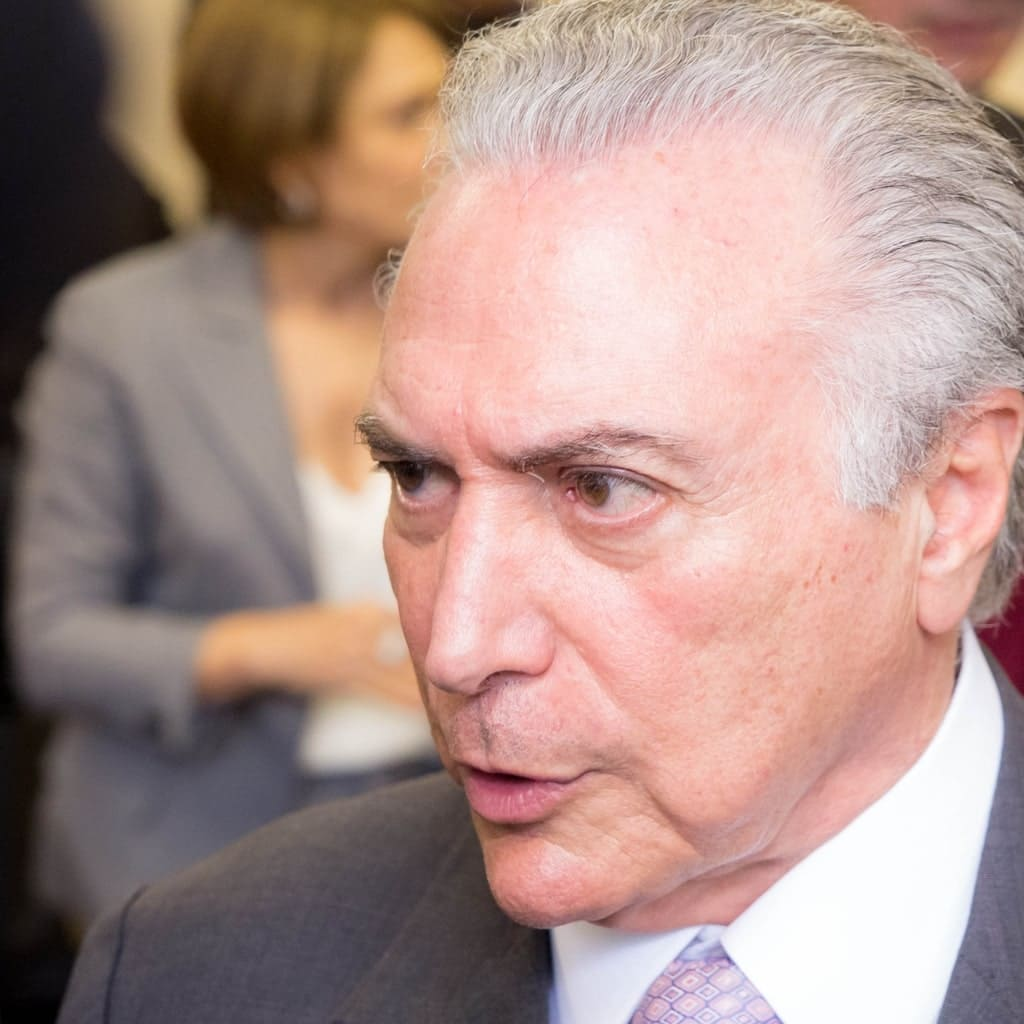without_mask: (365, 235, 866, 855)
